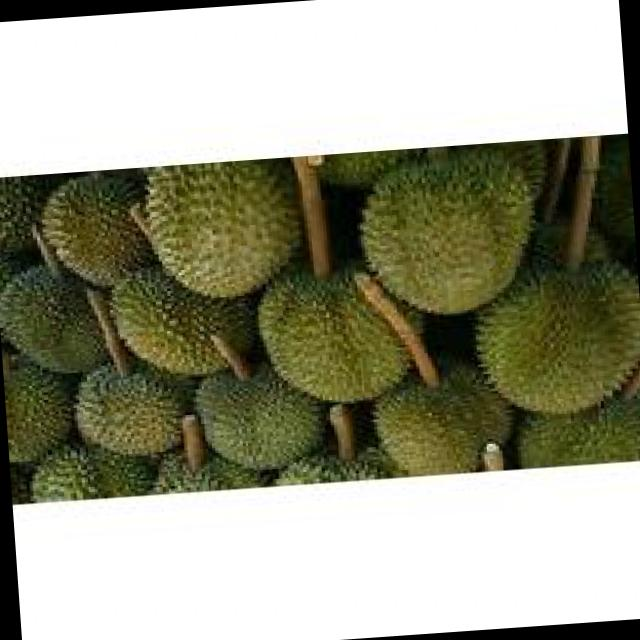fruit: (340, 138, 560, 334), (453, 238, 640, 430), (239, 248, 428, 425), (130, 150, 320, 320), (32, 169, 160, 302), (194, 360, 334, 480), (0, 264, 121, 394), (0, 304, 87, 477), (64, 357, 194, 470)
